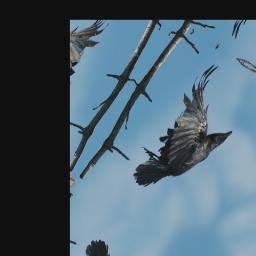Crow: (124, 52, 256, 211)
